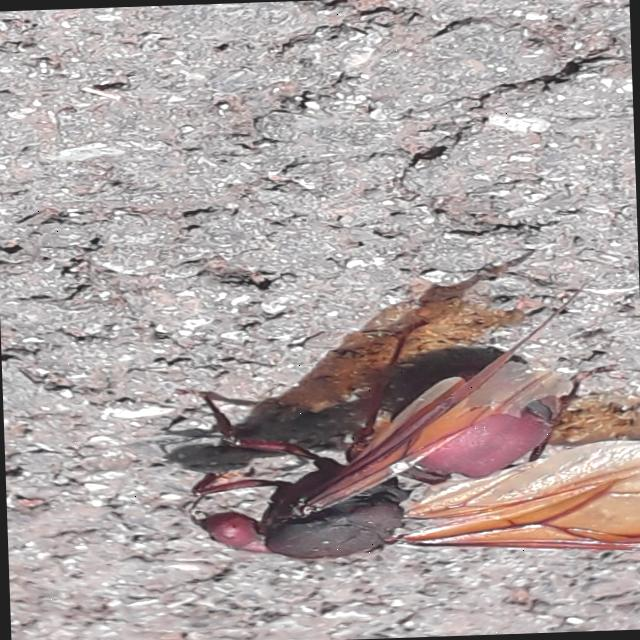Alive-Female-Alate: (180, 281, 640, 568)
